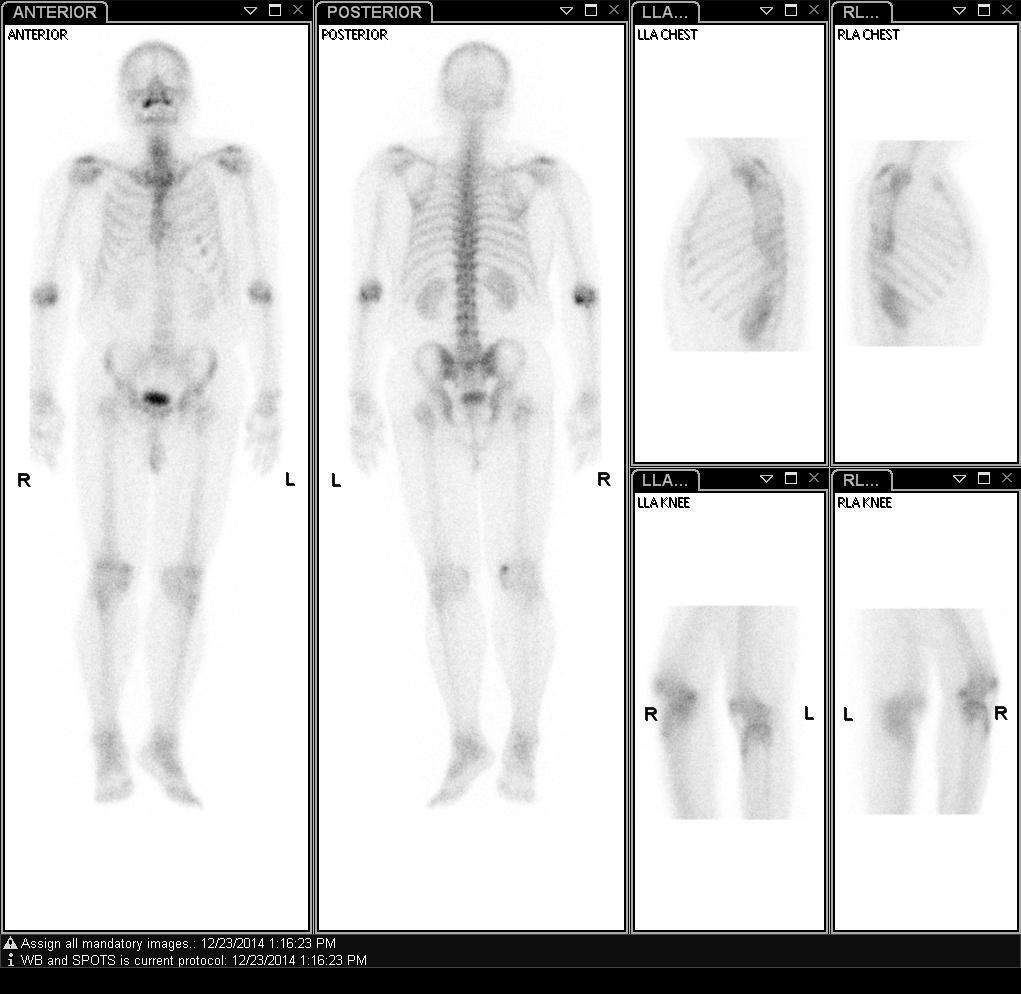person: (4, 26, 625, 932)
